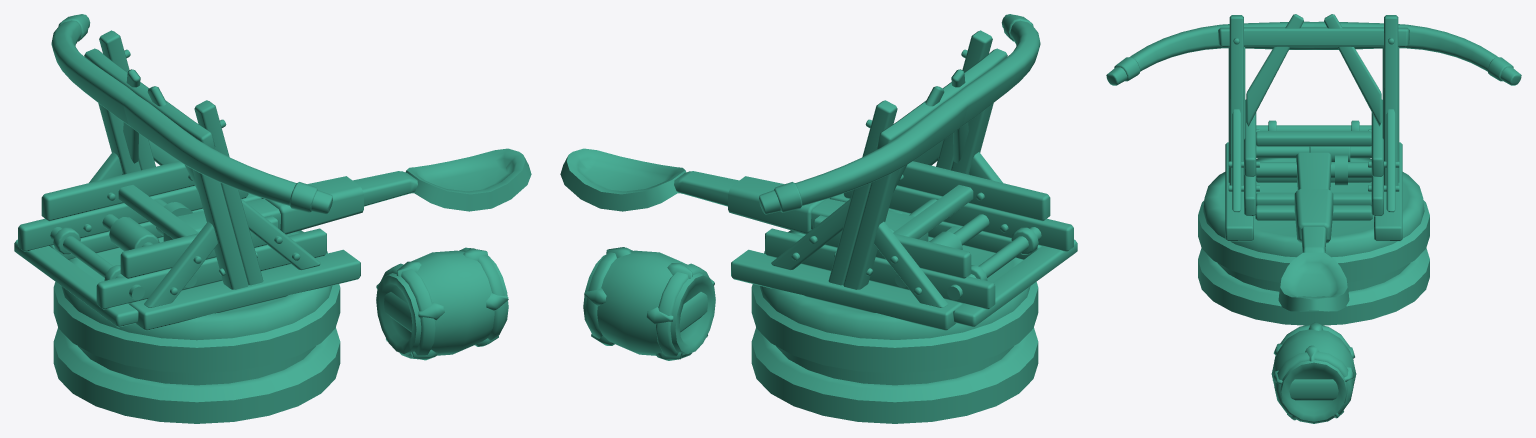
File: SM_Catapult.fbx
3 renders of one model, left to right at view 1: azimuth 30°, elevation 25°; view 2: azimuth 150°, elevation 25°; view 3: azimuth 270°, elevation 25°, orthographic. The views are drawn at different scales.
Parts seen in each view (by area): view 1: SM_Catapult_Catapult, SM_Catapult_base, SM_Catapult_Can, SM_Catapult_Arms; view 2: SM_Catapult_Catapult, SM_Catapult_base, SM_Catapult_Can, SM_Catapult_Arms; view 3: SM_Catapult_Catapult, SM_Catapult_base, SM_Catapult_Arms, SM_Catapult_Can.
Part boxes in pixels (bbox=[...]): SM_Catapult_Catapult: bbox=[14, 14, 360, 340]; SM_Catapult_base: bbox=[53, 282, 340, 423]; SM_Catapult_Can: bbox=[376, 247, 508, 360]; SM_Catapult_Arms: bbox=[154, 148, 531, 241]; SM_Catapult_Catapult: bbox=[731, 14, 1077, 339]; SM_Catapult_base: bbox=[751, 282, 1038, 423]; SM_Catapult_Can: bbox=[583, 247, 715, 360]; SM_Catapult_Arms: bbox=[560, 148, 937, 241]; SM_Catapult_Catapult: bbox=[1106, 14, 1521, 257]; SM_Catapult_base: bbox=[1198, 200, 1429, 325]; SM_Catapult_Arms: bbox=[1256, 152, 1371, 311]; SM_Catapult_Can: bbox=[1271, 322, 1356, 423].
Size of the model in its own units: 381 by 274 by 362.
